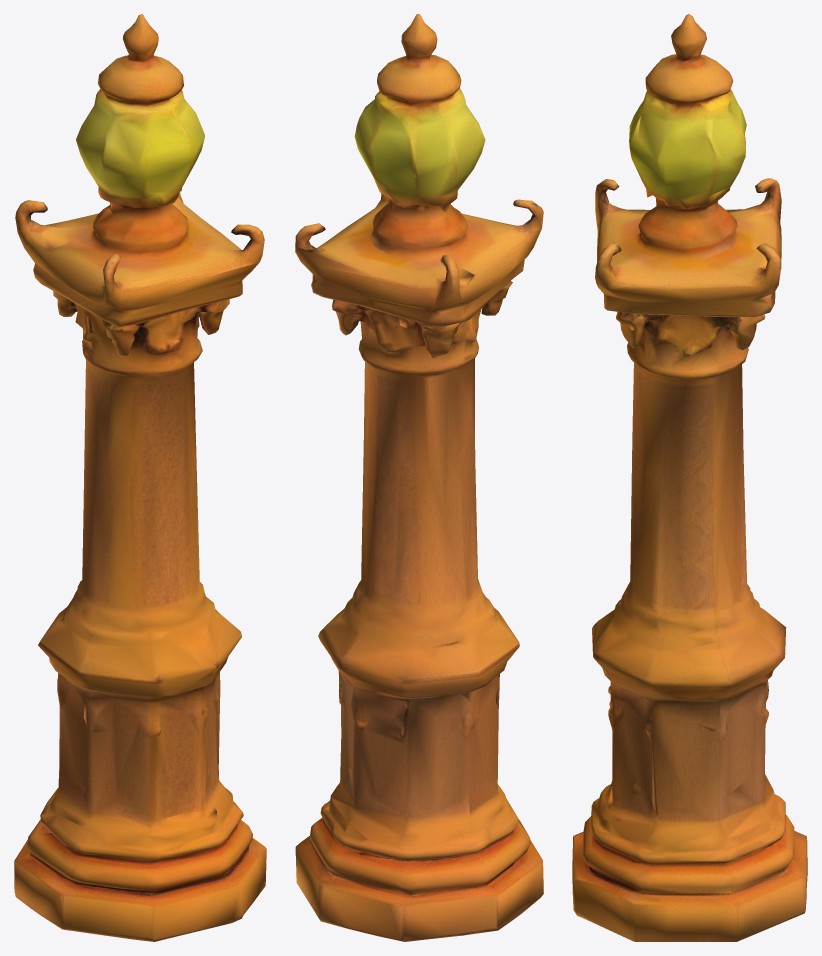
Rendered from crystal-lamp.glb.
The picture shows the model from 3 angles, left to right: view 1: azimuth 30°, elevation 25°; view 2: azimuth 150°, elevation 25°; view 3: azimuth 270°, elevation 25°; orthographic projection.
Visible parts, largest first — view 1: Mesh_0; view 2: Mesh_0; view 3: Mesh_0.
Part boxes in pixels (x1,y1,x2,y2): Mesh_0: (14, 14, 266, 941); Mesh_0: (295, 14, 543, 941); Mesh_0: (572, 14, 807, 941).
Bounding box in the file's own units: 0.7729 × 3.2 × 0.7766.
1 material, 1 textured.
